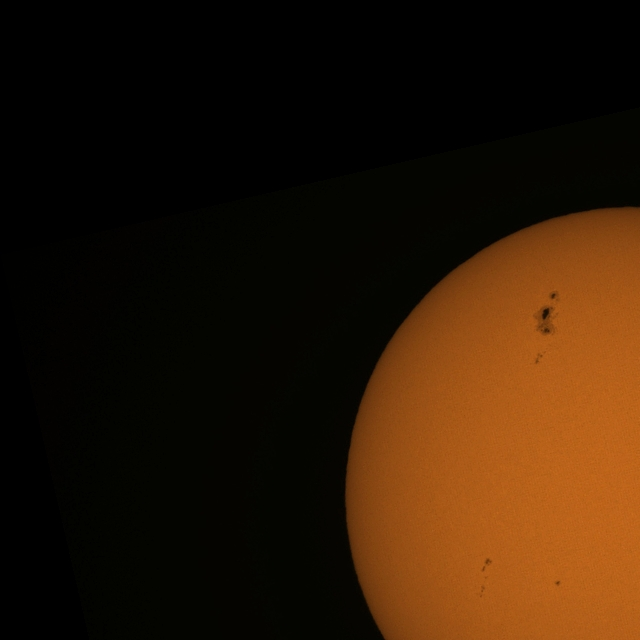sunspot: (532, 300, 561, 338), (478, 566, 491, 600), (534, 350, 547, 365), (480, 557, 492, 573), (478, 580, 488, 598), (548, 289, 560, 303), (554, 580, 562, 588)
